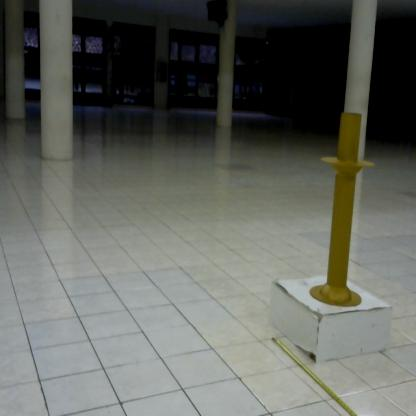pole: (310, 108, 374, 313)
